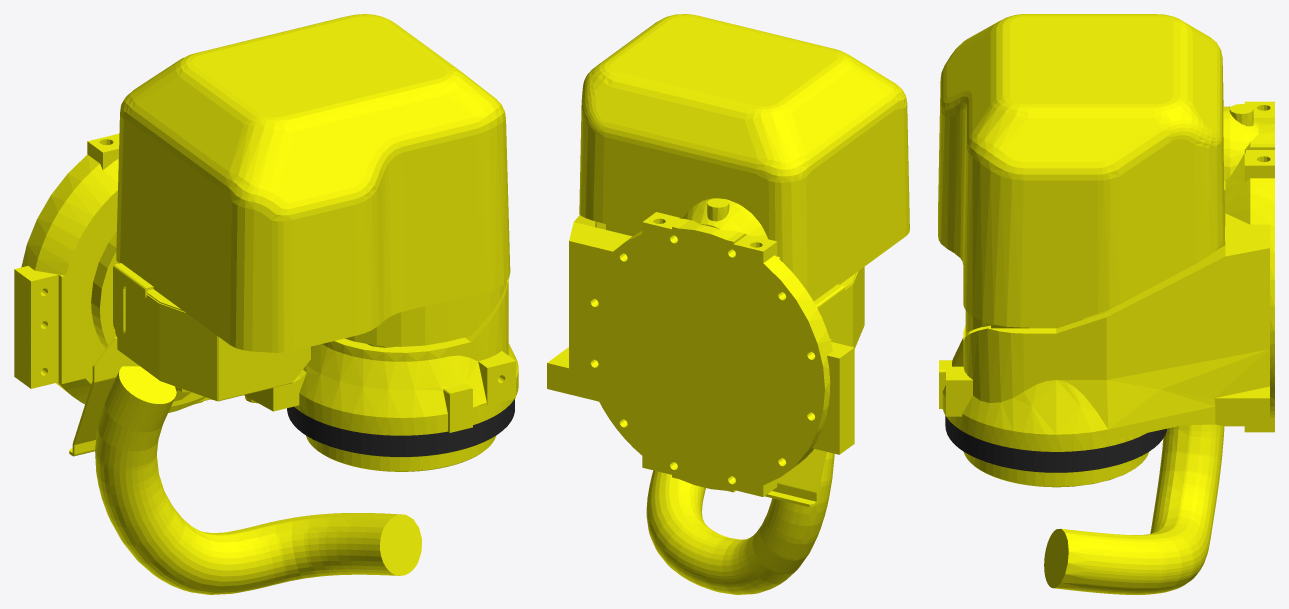
The picture shows the model from 3 angles, left to right: view 1: azimuth 30°, elevation 25°; view 2: azimuth 150°, elevation 25°; view 3: azimuth 270°, elevation 25°; orthographic projection. The views are drawn at different scales.
Parts seen in each view (by area): view 1: node; view 2: node; view 3: node.
Boxes of the visible parts, box(x1,y1,x2,y2) form: node: box(14, 14, 518, 594); node: box(547, 14, 909, 594); node: box(938, 14, 1274, 594).
Size of the model in its own units: 428 by 584 by 335.
